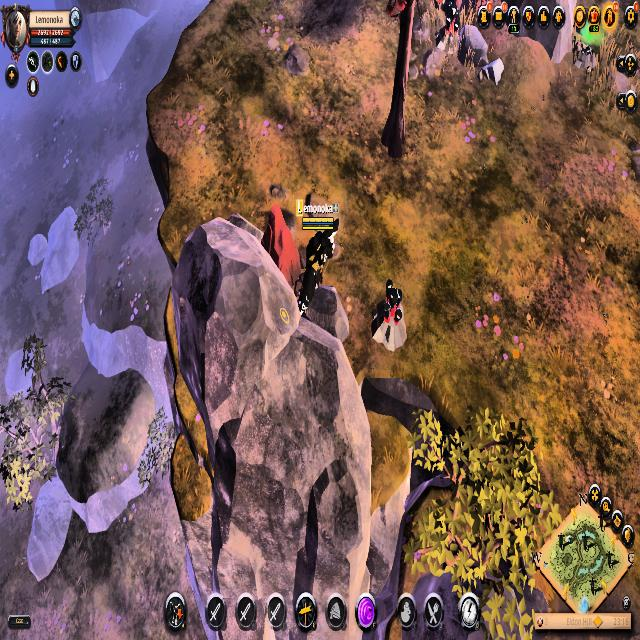ore tier 5: (370, 276, 408, 352)
rock tier 5: (261, 202, 301, 300)
